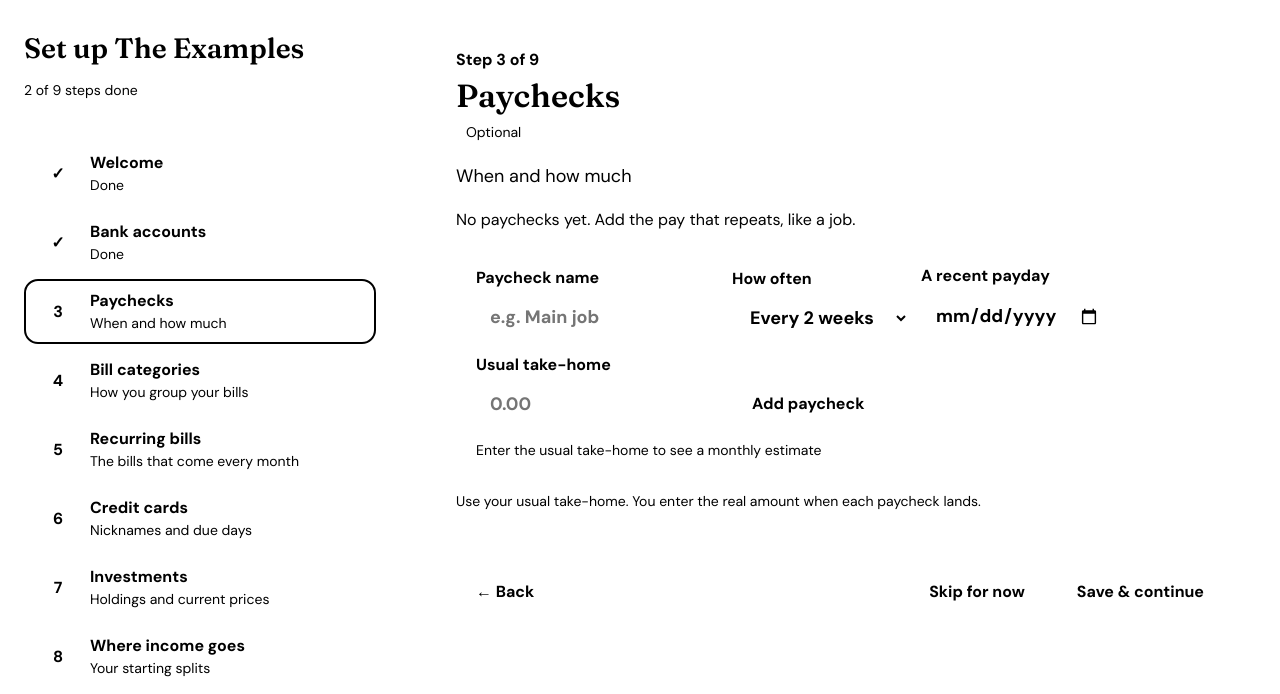
Scenario: P2-09 setup step 3 in the wizard › Save & continue needs a paycheck
Check: the text "Step 3 of 9" is shown, box [456,49,539,70]
Step 1. Click the button "Save & continue" → click(1140, 592), box [1057,568,1224,616]
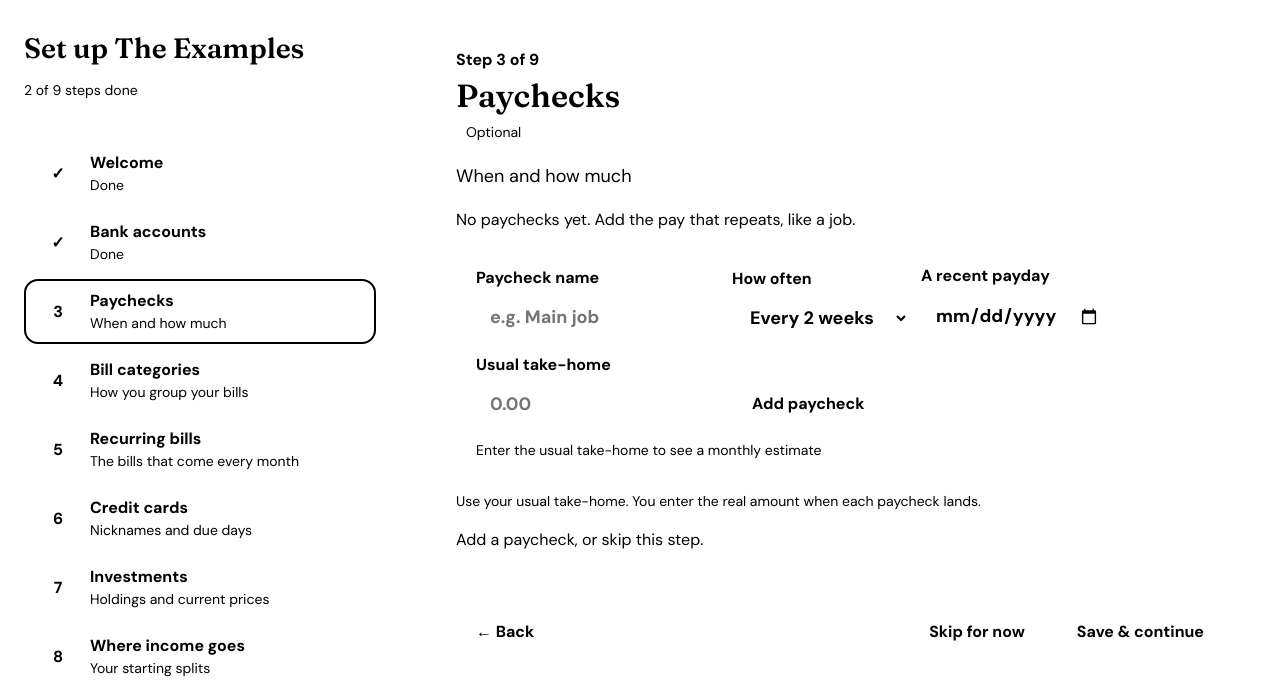
Check: the message reads "Add a paycheck, or skip this step.", box [456,529,703,550]
